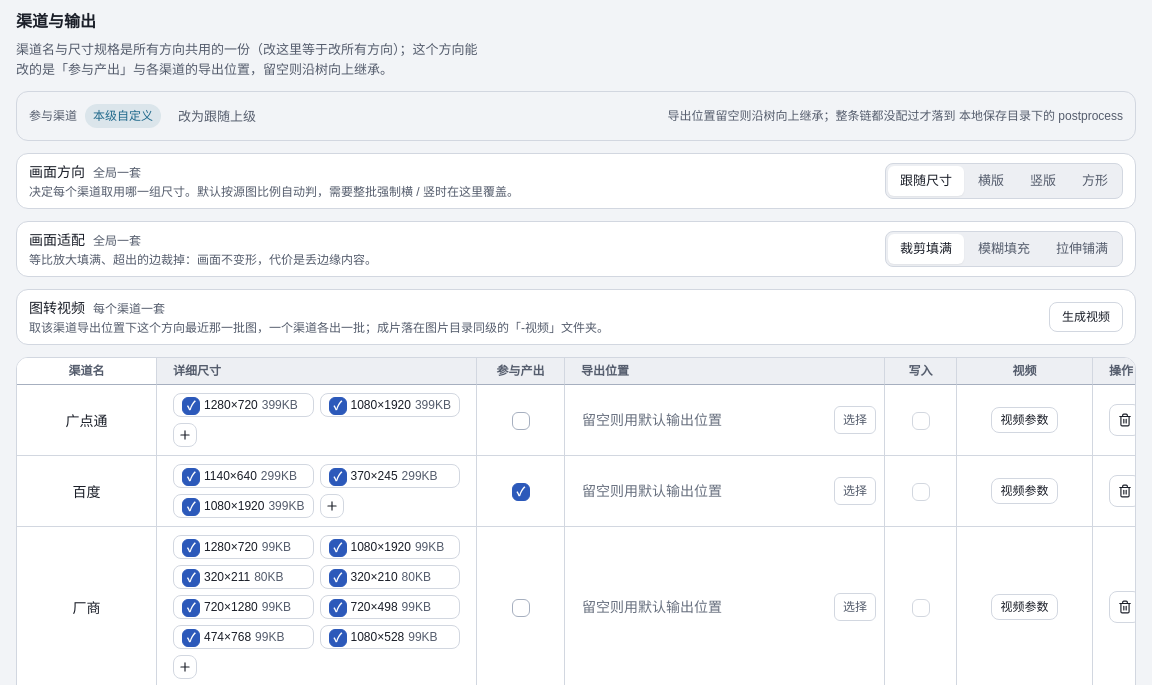
Test: 中控台 · 渠道与输出分区：表本体（尺寸 / 参与产出 / 导出位置合成一张表） › ⭐「改为跟随上级」把本级值置为「没表态」，而不是空数组（空数组 = 一个渠道都不投）
Click the button "改为跟随上级" at [217, 116], box top-left (169, 100), bottom-right (265, 132)
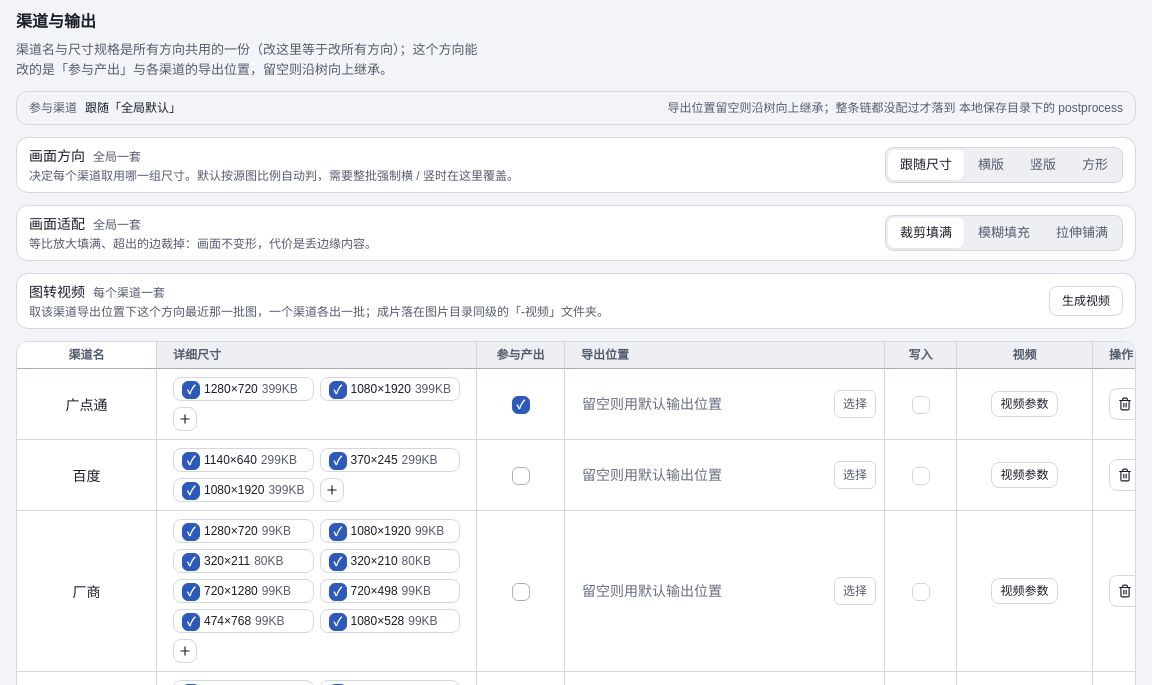
Expected: the text "跟随「全局默认」" is shown, top-left (85, 100), bottom-right (181, 116)
Expected: the 3rd checkbox labelled "✓" is checked, top-left (512, 394), bottom-right (530, 414)
